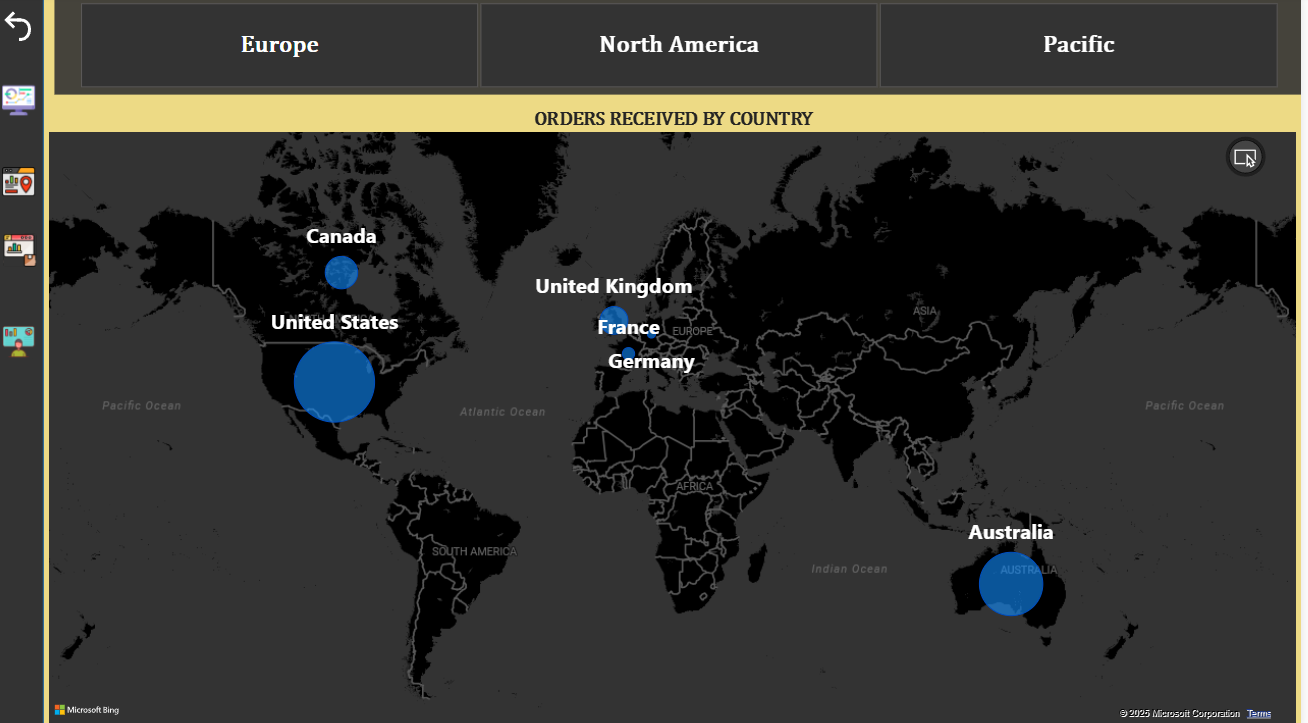

The page's visual inventory and layout, read from the dashboard file:
{"tool":"powerbi","page":{"name":"Map","canvas":[1280,720],"ordinal":2},"visuals":[{"type":"map","title":" ORDERS RECEIVED BY COUNTRY","fields":{"Category":["Territory Lookup.Country"],"Size":["Measure Table.Total Orders Recieved"]},"box":[45.4,110.4,1234.4,609.8],"z":0},{"type":"slicer","fields":{"Values":["Territory Lookup.Continent"]},"box":[55.2,0,1224.5,96.9],"z":1000},{"type":"shape","title":"Left Bar","box":[0,0,45,720.3],"z":2000},{"type":"actionButton","box":[0,82.2,99.4,40.5],"z":3000},{"type":"actionButton","box":[0,162,45.4,40.5],"z":4000},{"type":"actionButton","box":[1.2,229.4,45.4,40.5],"z":5000},{"type":"actionButton","box":[0,319,99.4,40.5],"z":6000},{"type":"actionButton","box":[0,9.8,106.7,39.3],"z":7000}]}

Visuals, with their boxes on the page's 1280x720 design canvas (x1, y1, x2, y2). These are canvas units, not pixel positions in the 1308x723 screenshot, which may show the page scaled, cropped or inside an application window:
" ORDERS RECEIVED BY COUNTRY" map: {"x1": 45, "y1": 110, "x2": 1280, "y2": 720}
slicer - Territory Lookup.Continent: {"x1": 55, "y1": 0, "x2": 1280, "y2": 97}
"Left Bar" shape: {"x1": 0, "y1": 0, "x2": 45, "y2": 720}
actionButton: {"x1": 0, "y1": 82, "x2": 99, "y2": 123}
actionButton: {"x1": 0, "y1": 162, "x2": 45, "y2": 202}
actionButton: {"x1": 1, "y1": 229, "x2": 47, "y2": 270}
actionButton: {"x1": 0, "y1": 319, "x2": 99, "y2": 360}
actionButton: {"x1": 0, "y1": 10, "x2": 107, "y2": 49}
